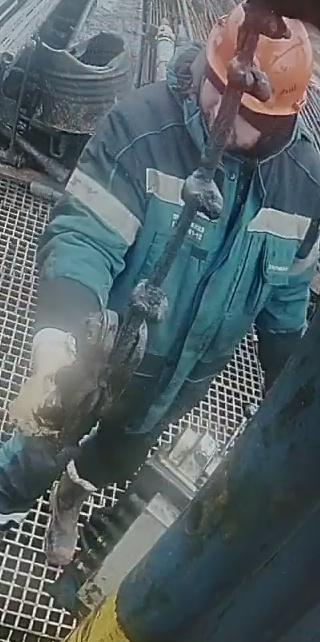gloves: (2, 307, 80, 442)
helmet: (203, 1, 313, 116)
vest: (89, 62, 318, 433)
